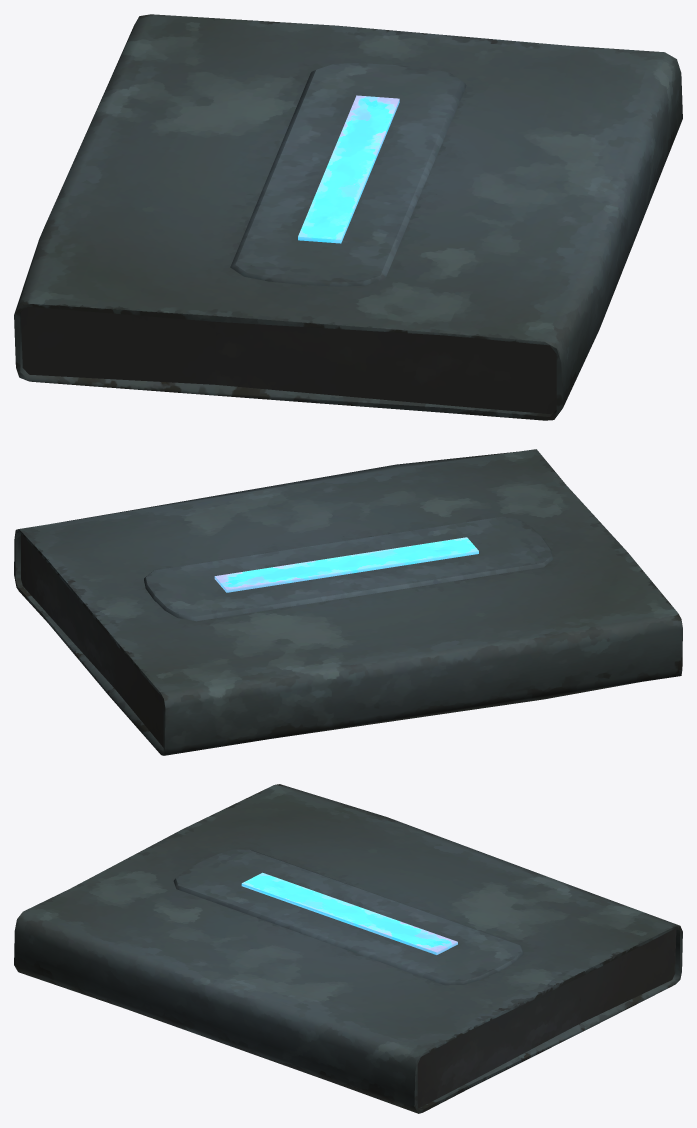
Rendered from Body1.gltf.
3 views of the same model, one above another, from view 1: azimuth 30°, elevation 25°; view 2: azimuth 150°, elevation 25°; view 3: azimuth 270°, elevation 25° (orthographic). The views are drawn at different scales.
Parts seen in each view (by area): view 1: PlatformModel2; view 2: PlatformModel2; view 3: PlatformModel2.
Part boxes in pixels (box(x1,y1,x2,y2)): PlatformModel2: box(14, 14, 682, 420); PlatformModel2: box(14, 449, 682, 755); PlatformModel2: box(14, 784, 682, 1113).
Bounding box in the file's own units: 1.34 × 0.1547 × 1.37.
Materials: 4 (4 with a texture image).
